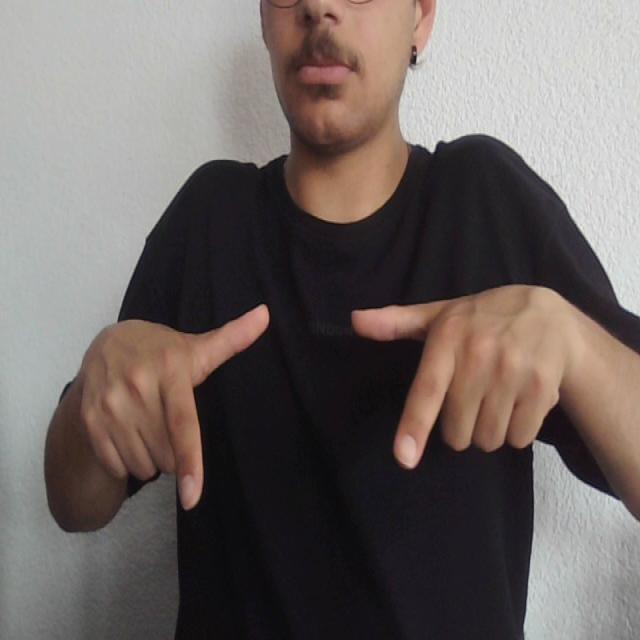Nerede: (150, 288, 468, 525)
